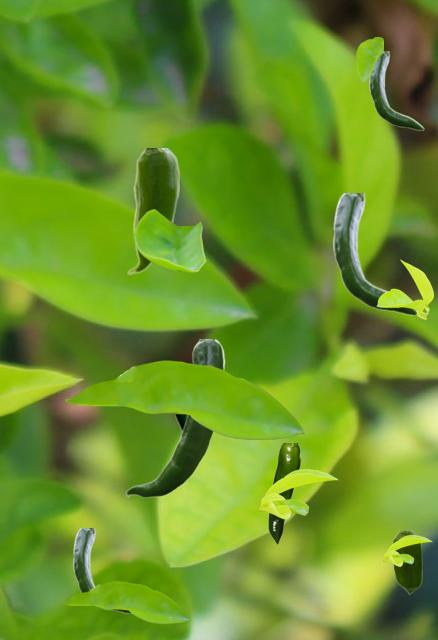green_chili: (125, 339, 224, 497), (333, 193, 415, 314), (126, 148, 178, 274), (73, 528, 129, 612), (369, 51, 423, 129), (268, 443, 299, 543), (392, 531, 421, 593), (174, 415, 185, 430)
